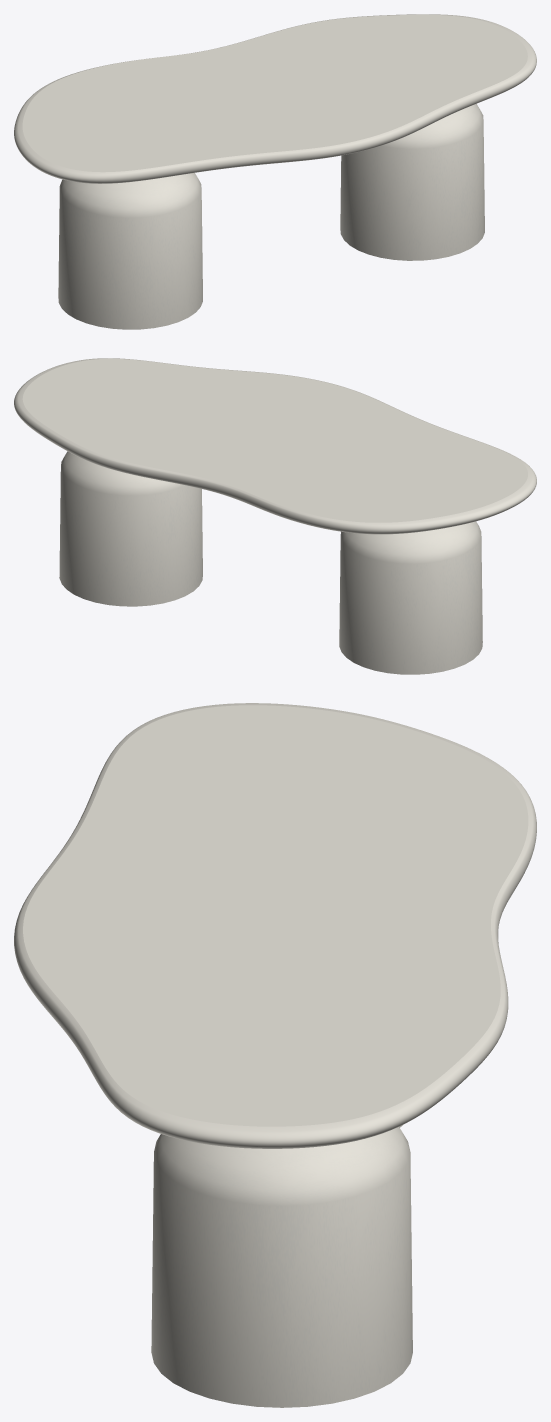
The model's file is pale_toplast_round_tornado.glb.
The picture shows the model from 3 angles, top to bottom: view 1: azimuth 30°, elevation 25°; view 2: azimuth 150°, elevation 25°; view 3: azimuth 270°, elevation 25°; orthographic projection. The views are drawn at different scales.
Parts seen in each view (by area): view 1: round_toplast, tornado; view 2: round_toplast, tornado; view 3: round_toplast, tornado.
Boxes of the visible parts, x1,y1,x2,y2 form: round_toplast: [14, 14, 536, 183]; tornado: [58, 104, 484, 329]; round_toplast: [14, 358, 536, 534]; tornado: [59, 451, 482, 674]; round_toplast: [14, 703, 536, 1148]; tornado: [151, 1125, 412, 1407].
Bounding box in the file's own units: 7.5 × 2.5 × 3.8.
1 material, 1 textured.
